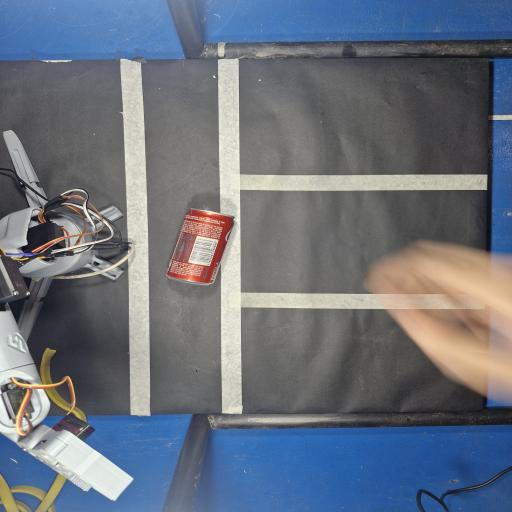lata: (166, 209, 234, 285)
